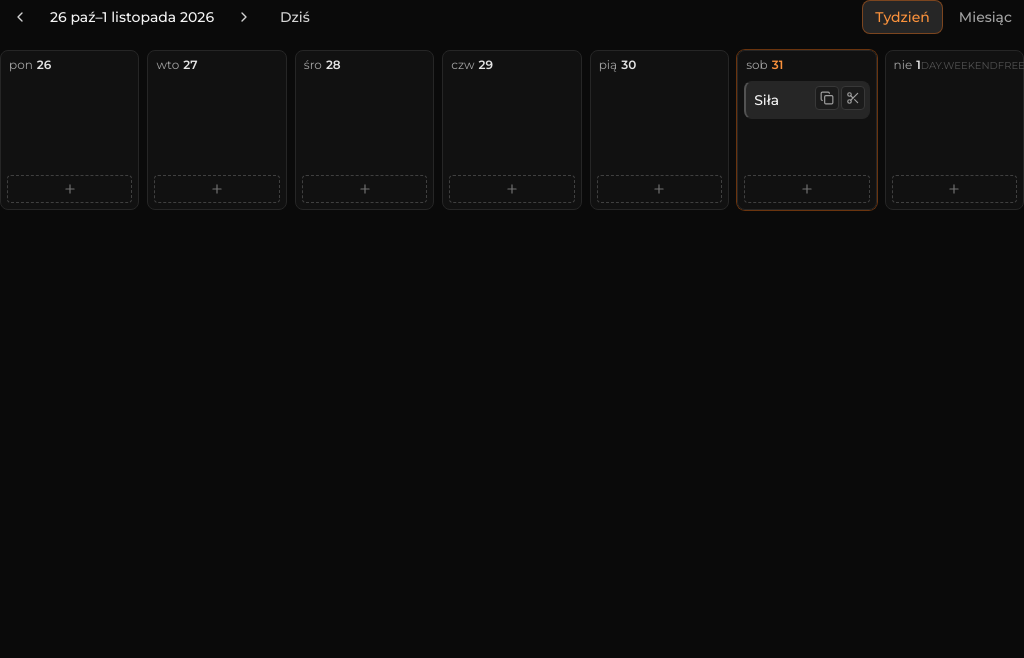
TrainingCalendar › treats a 768px tablet as narrow, not as a small desktop
// And the month is the dot grid with its day sheet, exactly as on a phone
Click the button "Miesiąc" at (985, 17), box top-left (947, 0), bottom-right (1023, 34)
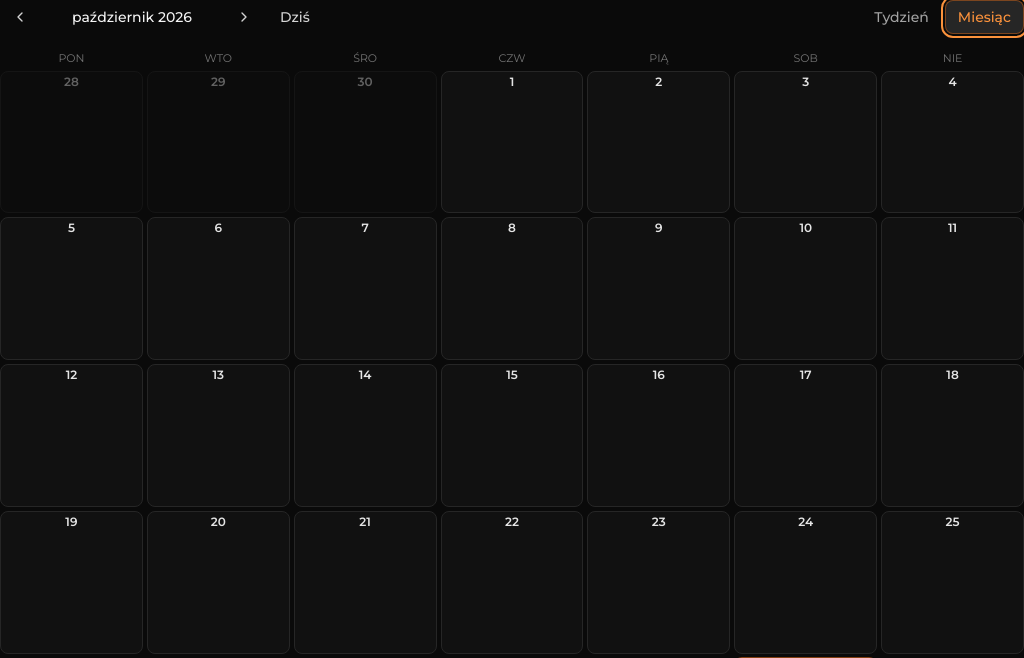
Expected: the number of buttons named "Pokaż dzień" is 42
